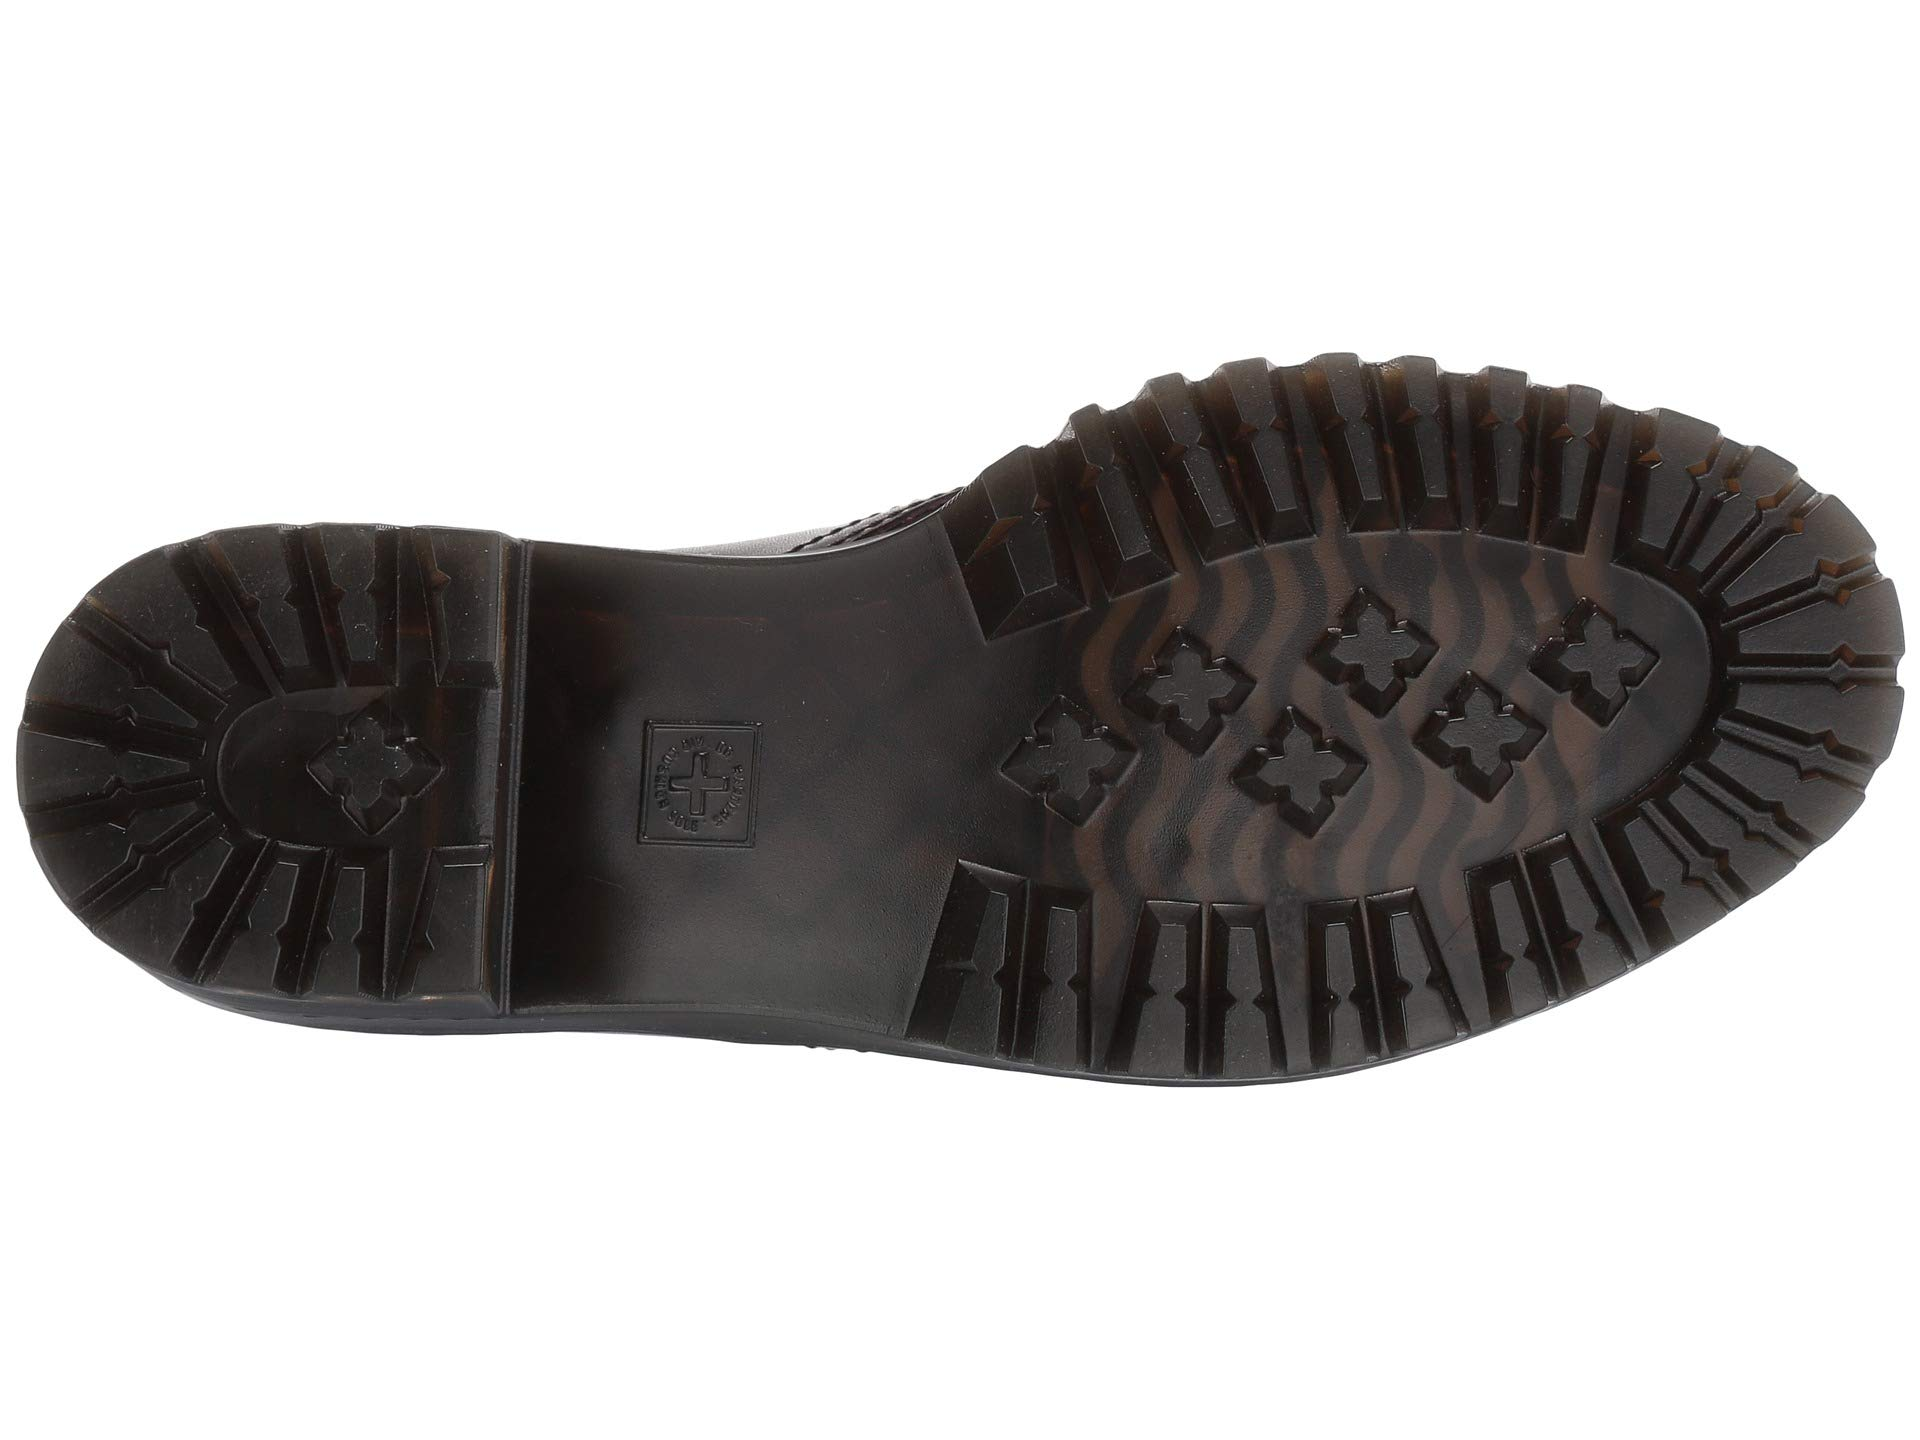star: (1005, 643, 1268, 897)
